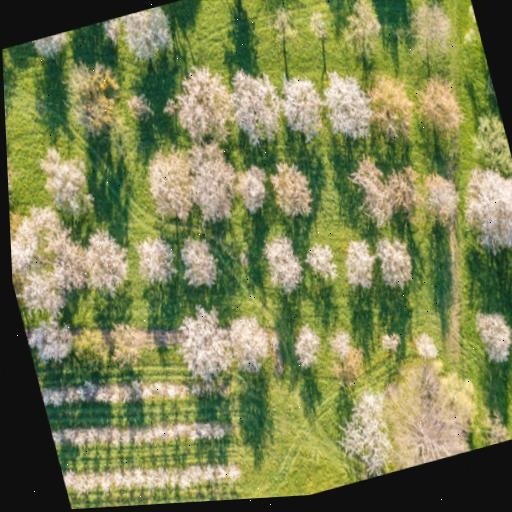tree-top: (9, 200, 93, 324), (224, 60, 297, 162), (391, 376, 472, 467), (330, 383, 403, 482), (168, 298, 241, 394), (167, 58, 241, 149), (77, 223, 143, 314), (455, 158, 512, 257), (344, 150, 414, 228), (60, 61, 127, 139), (184, 141, 246, 225), (363, 70, 425, 152), (140, 146, 202, 226), (35, 151, 95, 228), (412, 67, 471, 143), (398, 0, 462, 70), (317, 60, 372, 140), (174, 228, 229, 299), (119, 4, 177, 68), (280, 71, 330, 144), (224, 308, 275, 379), (263, 153, 315, 217), (465, 102, 512, 172), (129, 228, 180, 292), (23, 310, 79, 368), (365, 227, 416, 290), (470, 305, 512, 379), (107, 312, 155, 375), (264, 232, 310, 295), (419, 164, 465, 222), (329, 0, 383, 49), (341, 236, 383, 291), (237, 160, 275, 220), (287, 327, 327, 383), (324, 329, 367, 379), (73, 325, 113, 377), (307, 233, 345, 284), (373, 320, 406, 363), (29, 31, 72, 63), (473, 415, 509, 448), (409, 328, 440, 364), (6, 141, 20, 211), (268, 3, 296, 38), (304, 7, 329, 44), (511, 242, 512, 318), (510, 403, 512, 437)
